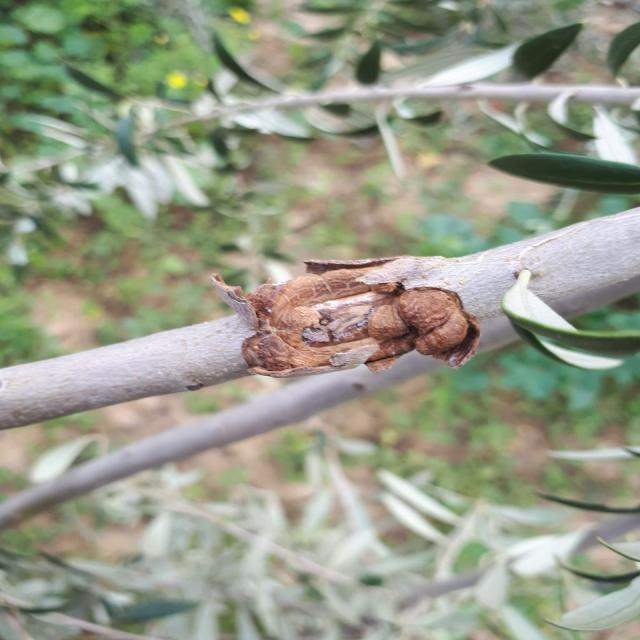Tuberculosis: (235, 258, 480, 378)
